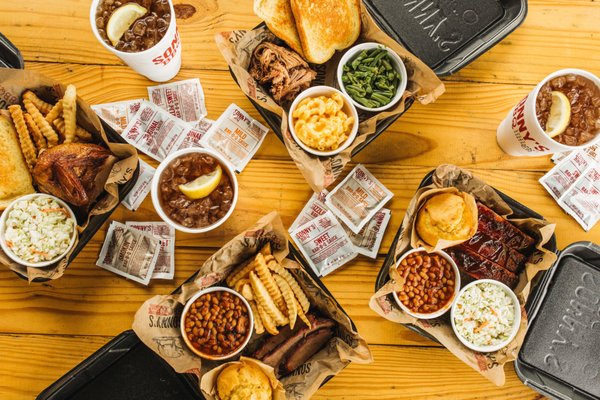soup: (253, 0, 362, 64), (0, 106, 35, 214)
sushi: (149, 146, 239, 236), (90, 0, 181, 81), (523, 68, 600, 156), (0, 192, 78, 271), (179, 285, 255, 362), (450, 278, 523, 353), (389, 247, 462, 320), (287, 84, 359, 158), (337, 41, 407, 114), (200, 356, 287, 399)
